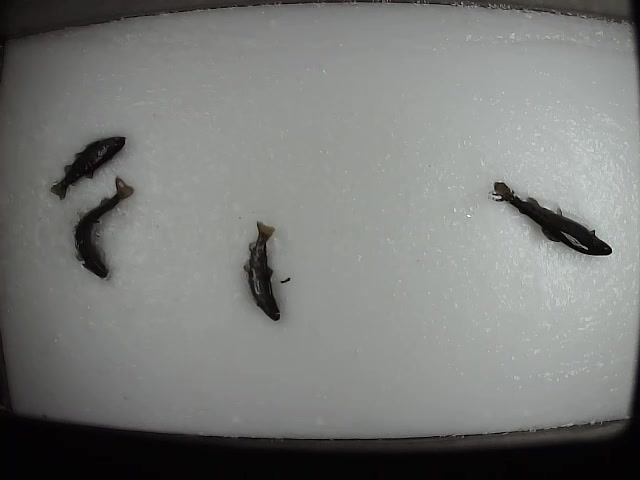fish: (490, 179, 615, 257), (71, 174, 138, 279), (46, 132, 133, 203), (239, 220, 282, 322)
